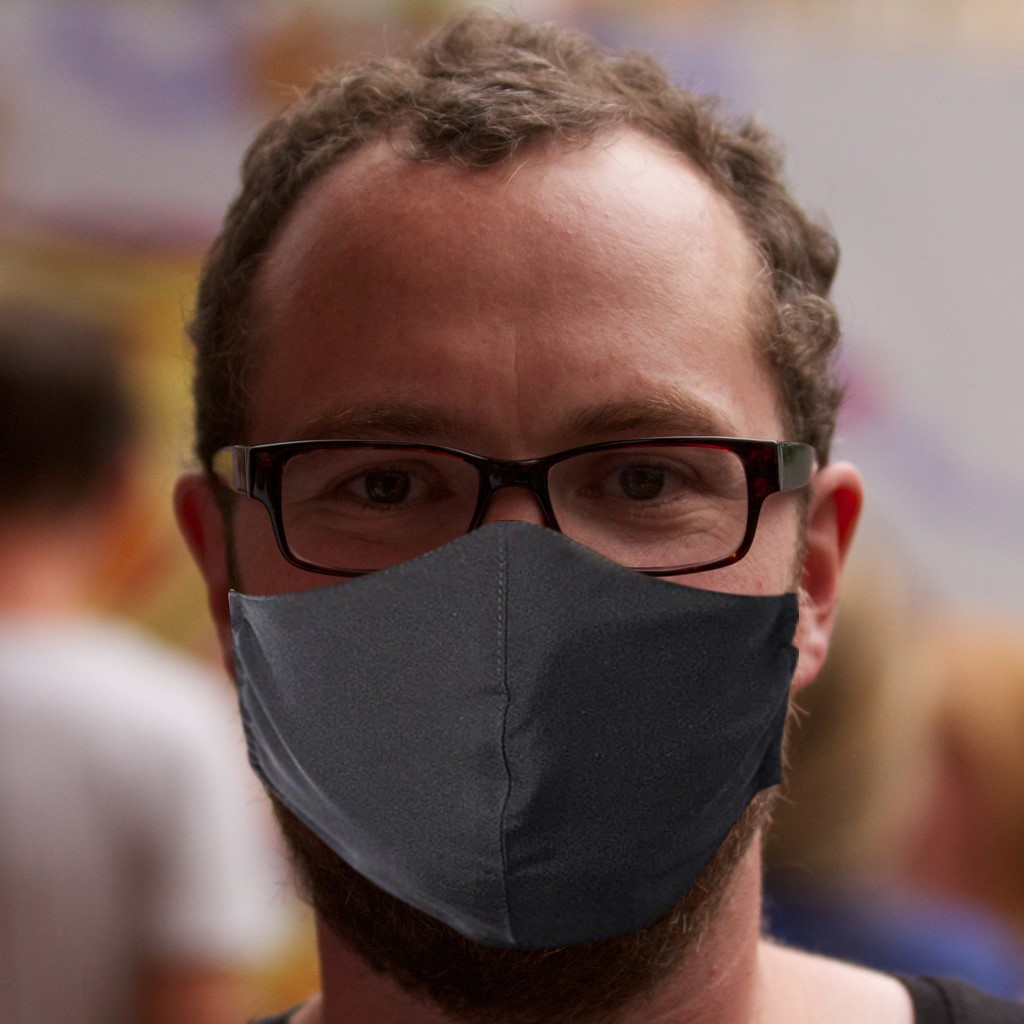con_mascara: (184, 140, 843, 977)
